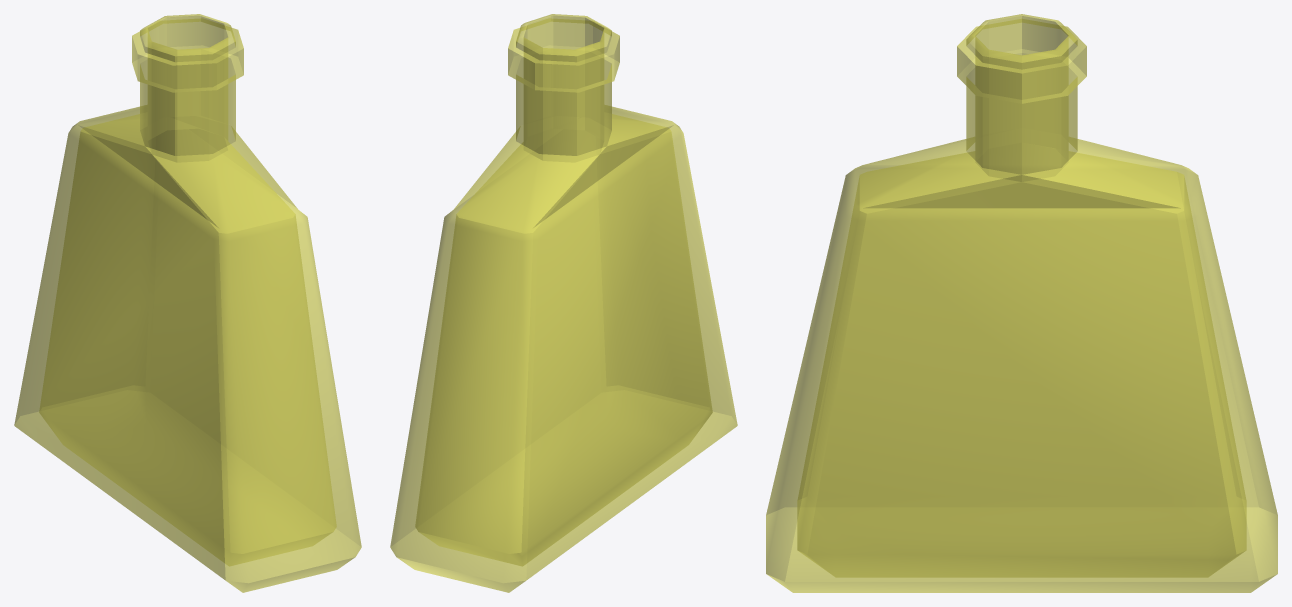
File: PROP_013_Bottles_G.fbx
3 renders of one model, left to right at view 1: azimuth 30°, elevation 25°; view 2: azimuth 150°, elevation 25°; view 3: azimuth 270°, elevation 25°, orthographic. The views are drawn at different scales.
Visible parts, largest first — view 1: Cuadrado_014; view 2: Cuadrado_014; view 3: Cuadrado_014.
Boxes of the visible parts, left/top/right/bottom form: Cuadrado_014: left=14, top=14, right=361, bottom=592; Cuadrado_014: left=390, top=14, right=737, bottom=592; Cuadrado_014: left=766, top=14, right=1277, bottom=592.
Size of the model in its own units: 0.0816 by 0.2715 by 0.237.
